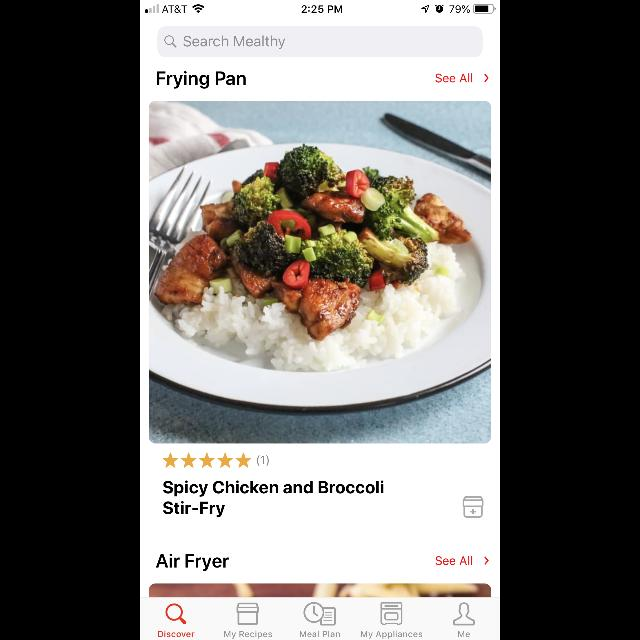icon: (163, 452, 251, 468), (304, 602, 336, 626), (453, 602, 475, 626), (166, 604, 187, 624), (165, 36, 177, 48), (485, 557, 489, 565), (484, 74, 488, 82)
image: (149, 101, 491, 443), (149, 584, 491, 596), (380, 602, 402, 626), (237, 603, 259, 625), (462, 496, 483, 518)
input: (158, 27, 482, 58)
text: (163, 480, 383, 518), (158, 71, 246, 89), (184, 35, 286, 49), (156, 554, 228, 572), (362, 631, 422, 639), (224, 631, 272, 639), (158, 630, 196, 638), (436, 74, 472, 82), (436, 556, 472, 564), (300, 631, 340, 637), (257, 456, 269, 466), (458, 631, 470, 637)
uppertaskbar: (140, 0, 500, 14)
